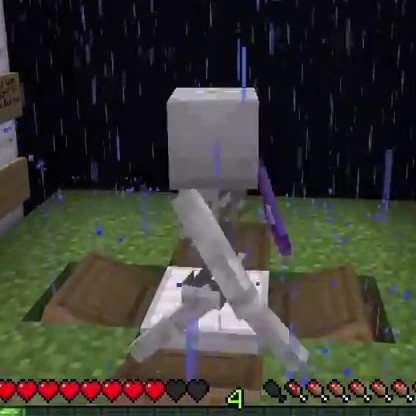skeleton: (160, 86, 290, 355)
